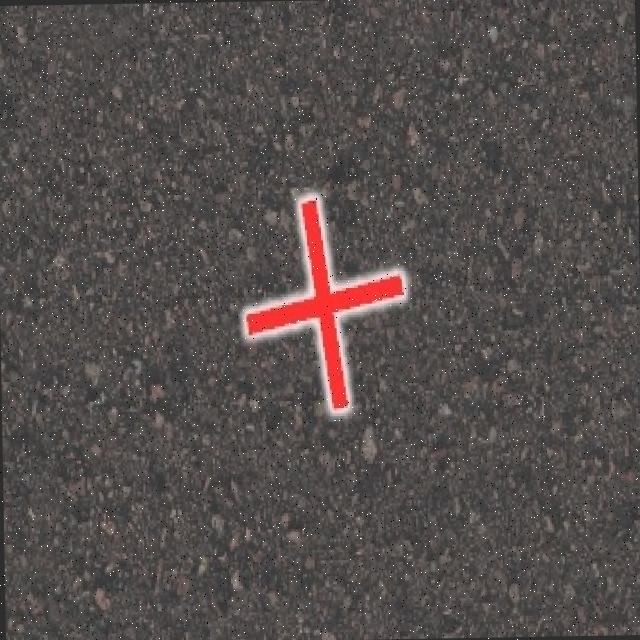x_marker: (242, 194, 404, 410)
